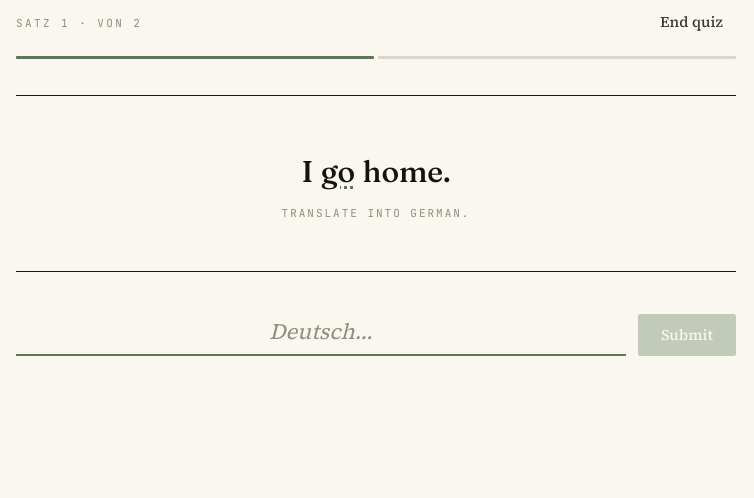
Test: VerbSentenceRunner — hear the reference (graded-card playback) › a graded card renders .hear-row, .hear-btn and the .hear-hint text
Type "Ich laufe nach Hause." into the field with placeholder "Deutsch…" at (321, 332), box [16,308,626,356]
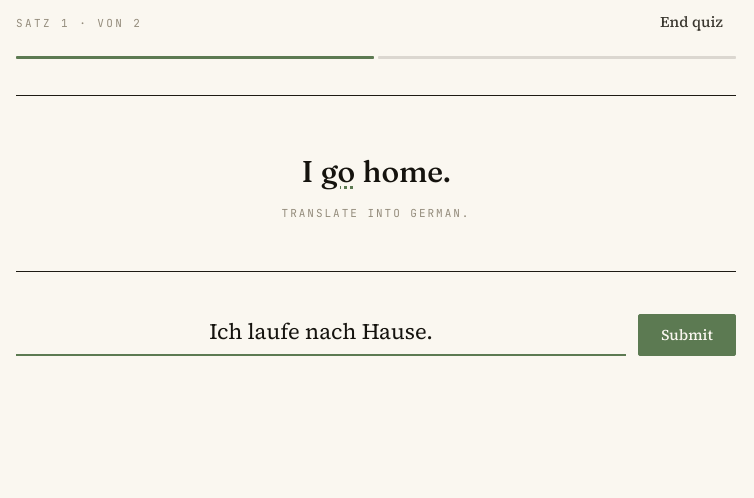
Submit the form, box [16,308,736,356]
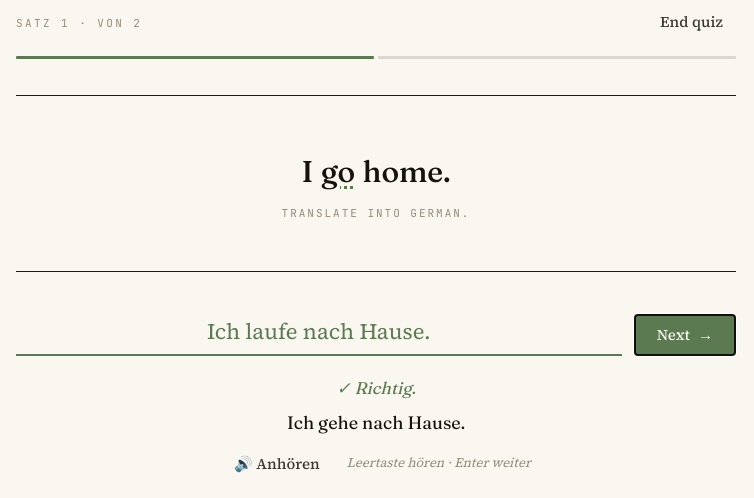
Expected: the element that starts with "✓ Richtig." is shown, [221,377,531,482]
Expected: the element with class "hear-row" is shown, [221,446,531,482]
Expected: the button with class "hear-btn" reads "🔊 Anhören", [221,446,333,482]
